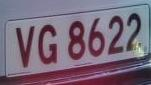2: (106, 12, 127, 60), (124, 10, 144, 56)
6: (86, 15, 108, 62)
8: (65, 16, 89, 66)
G: (36, 21, 60, 71)
V: (13, 22, 37, 73)
